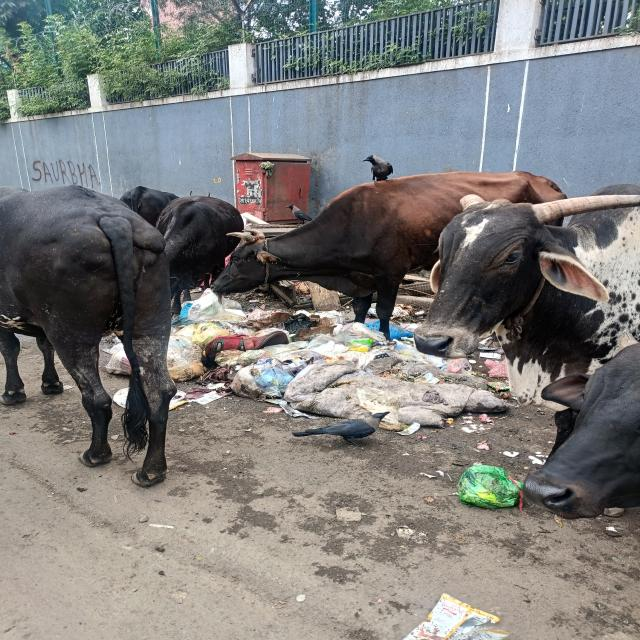garbage: (172, 292, 489, 429)
